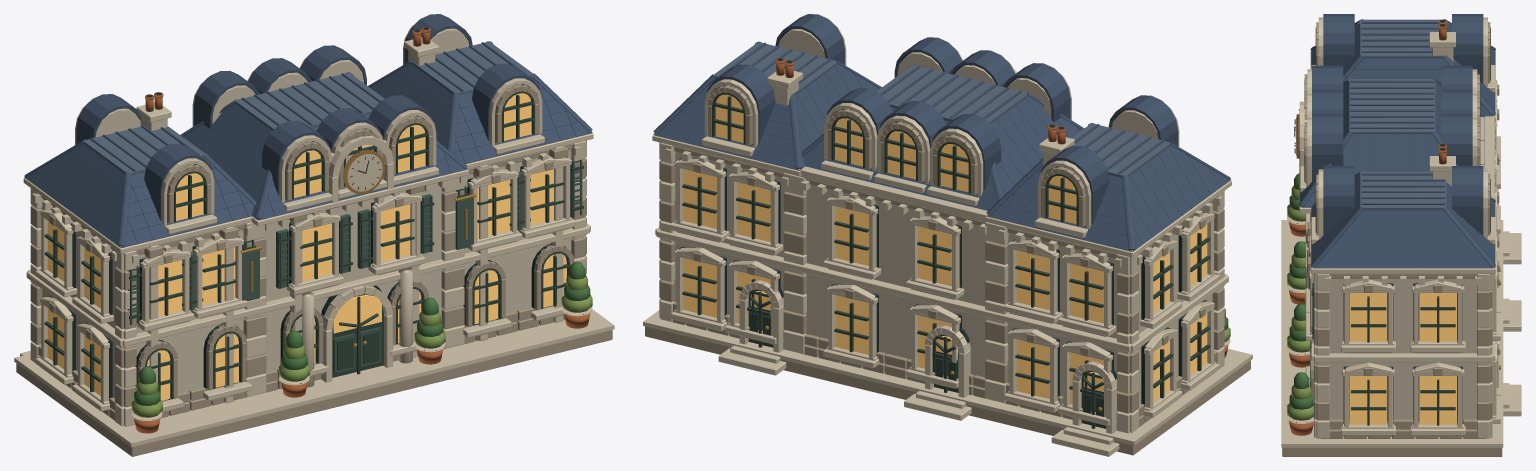
3 renders of one model, left to right at view 1: azimuth 30°, elevation 25°; view 2: azimuth 150°, elevation 25°; view 3: azimuth 270°, elevation 25°, orthographic. The views are drawn at different scales.
Parts seen in each view (by area): view 1: classic_finance_2_geometry, classic_finance_2_geometry ceramic; view 2: classic_finance_2_geometry, classic_finance_2_geometry ceramic; view 3: classic_finance_2_geometry, classic_finance_2_geometry ceramic.
Boxes of the visible parts, x1,y1,x2,y2 form: classic_finance_2_geometry: [14, 20, 614, 456]; classic_finance_2_geometry ceramic: [24, 14, 592, 247]; classic_finance_2_geometry: [643, 20, 1252, 456]; classic_finance_2_geometry ceramic: [653, 14, 1230, 251]; classic_finance_2_geometry: [1281, 17, 1521, 456]; classic_finance_2_geometry ceramic: [1299, 14, 1495, 268].
Size of the model in its own units: 2.04 by 1.11 by 0.9256.
